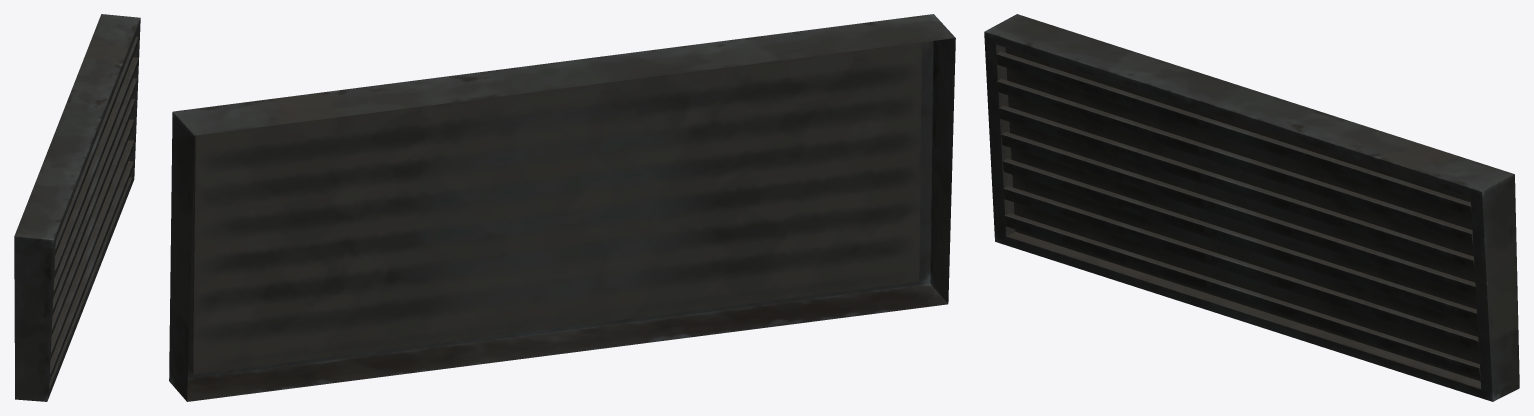
File: Body1.gltf
The picture shows the model from 3 angles, left to right: view 1: azimuth 30°, elevation 25°; view 2: azimuth 150°, elevation 25°; view 3: azimuth 270°, elevation 25°; orthographic projection. The views are drawn at different scales.
Visible parts, largest first — view 1: RadiatorGrile; view 2: RadiatorGrile; view 3: RadiatorGrile.
Boxes of the visible parts, x1,y1,x2,y2 form: RadiatorGrile: (14, 14, 140, 401); RadiatorGrile: (169, 14, 955, 401); RadiatorGrile: (984, 14, 1519, 401).
Bounding box in the file's own units: 2.62 × 1.45 × 3.07.
1 material, 1 textured.
